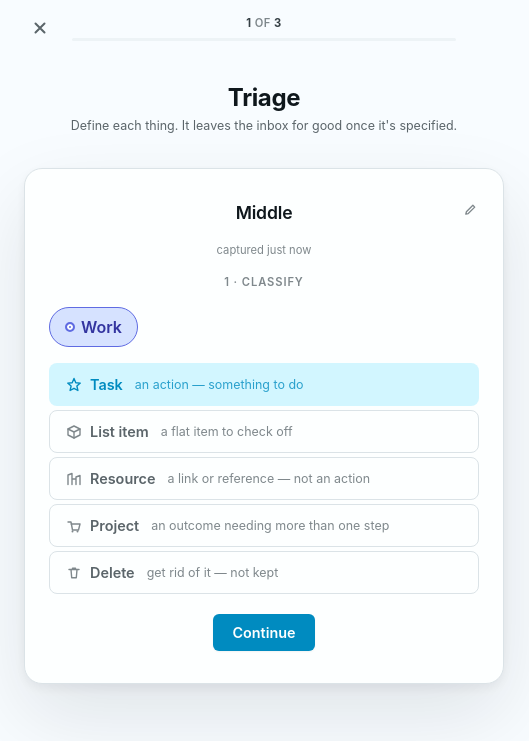
Test: TriagePage › wraps to earlier inbox items after starting triage from a row
The image size is (529, 741).
Check: the text "Middle" is shown, box [236,202,292,222]
Step 1. Click the button "Continue" → (264, 632), box [213,614,315,651]
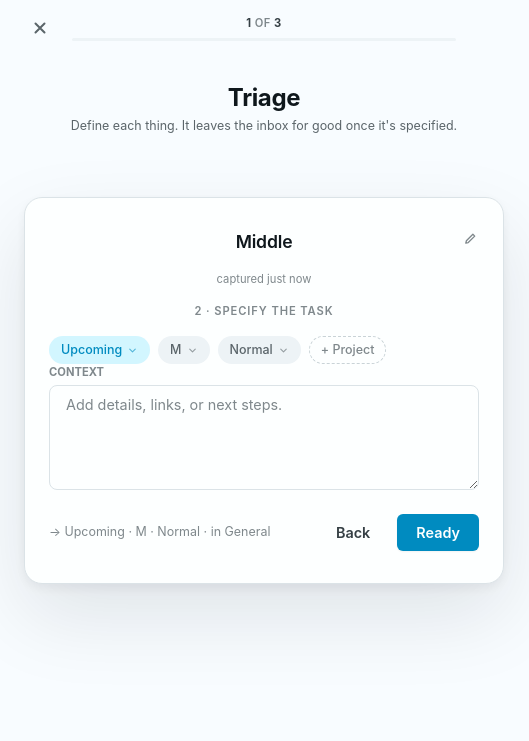
Step 2. Click the button "Ready" → (438, 532), box [397,514,479,551]
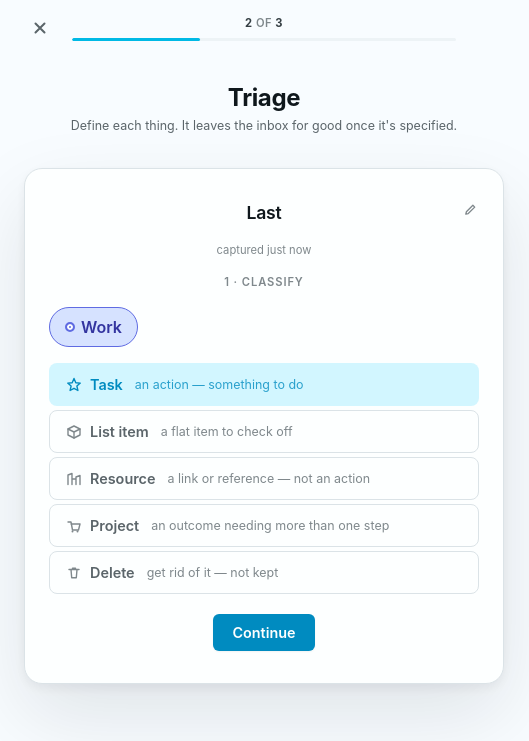
Check: the text "Last" is shown, box [246,202,282,222]
Step 3. Click the button "Continue" → (264, 632), box [213,614,315,651]
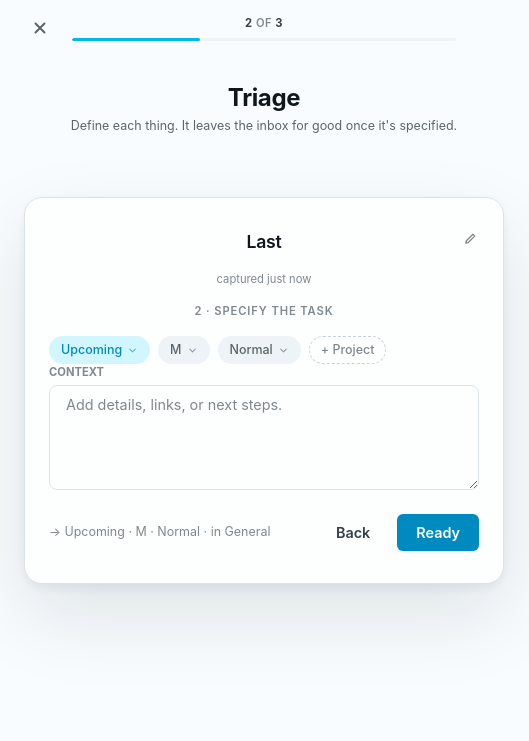
Step 4. Click the button "Ready" → (438, 532), box [397,514,479,551]
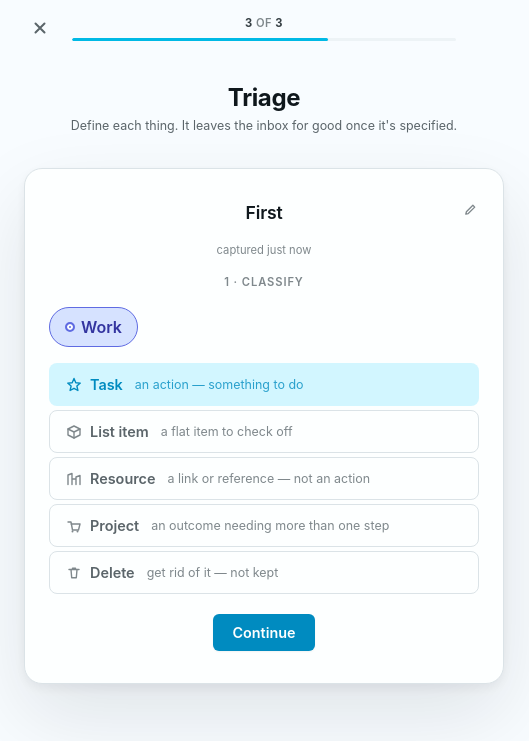
Check: the text "First" is shown, box [246,202,282,222]
Step 5. Click the button "Continue" → (264, 632), box [213,614,315,651]
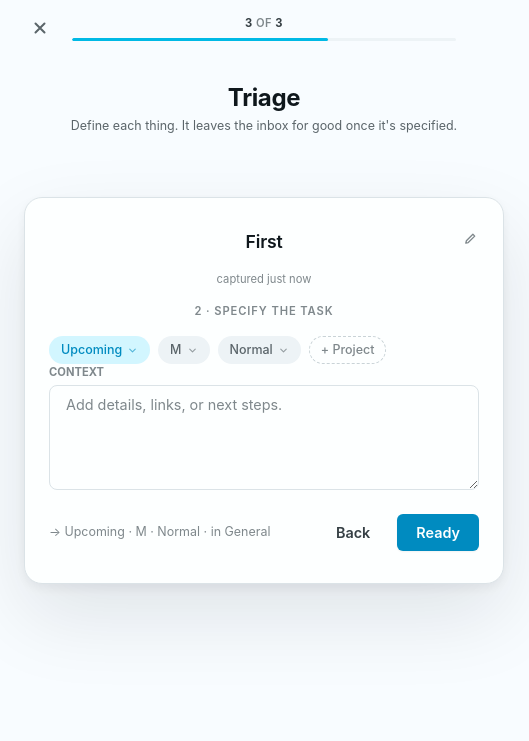
Step 6. Click the button "Ready" → (438, 532), box [397,514,479,551]
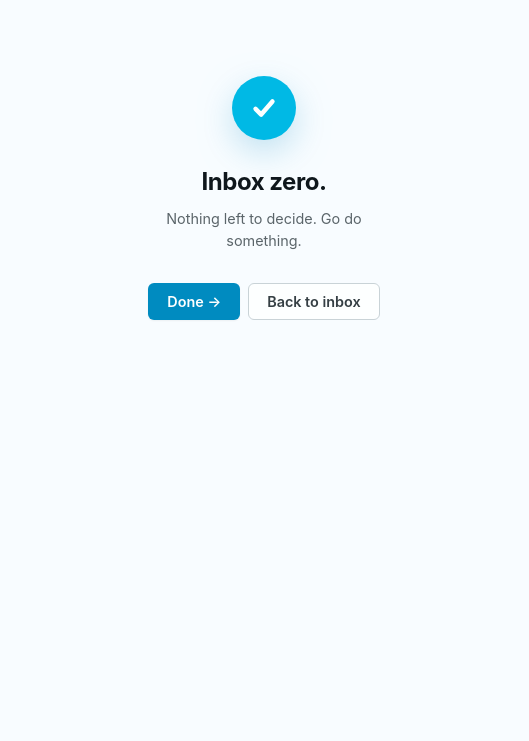
Check: the heading "Inbox zero." is shown, box [202,167,326,196]
